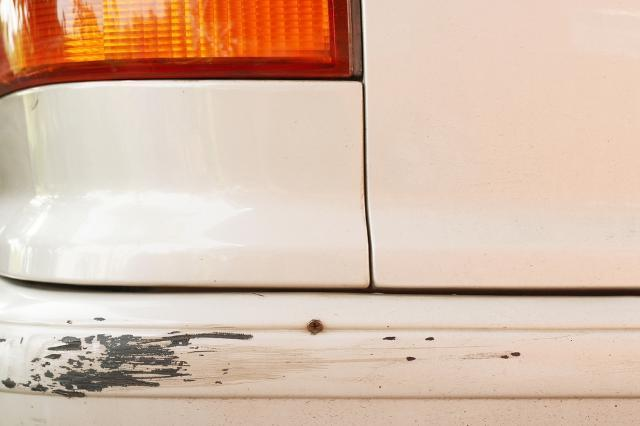scratch: (0, 314, 533, 401)
